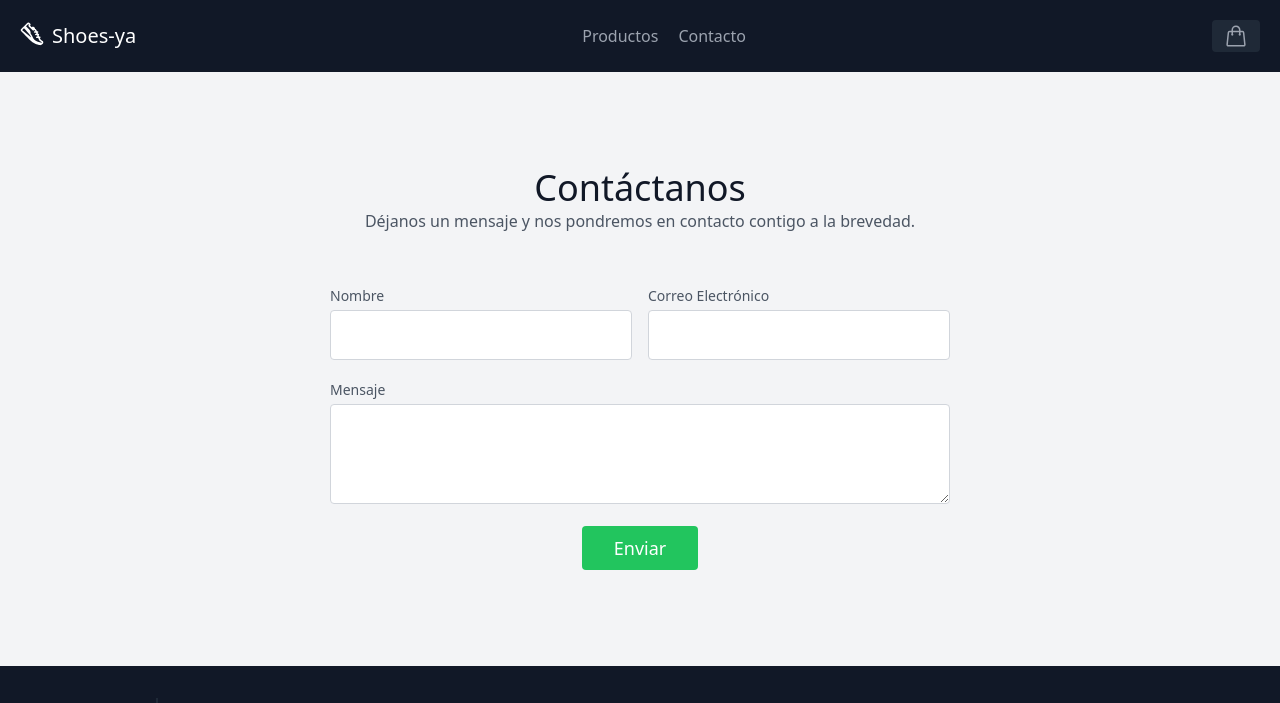
Scenario: Formulario de Contacto - Shoes-Ya › Debería validar el formato del correo electrónico
This screenshot has width=1280, height=703.
// Completar los campos con un correo inválido
Step 1. Type "Juan Pérez" into the field with id "name" → [481, 335], box [330,310,632,360]
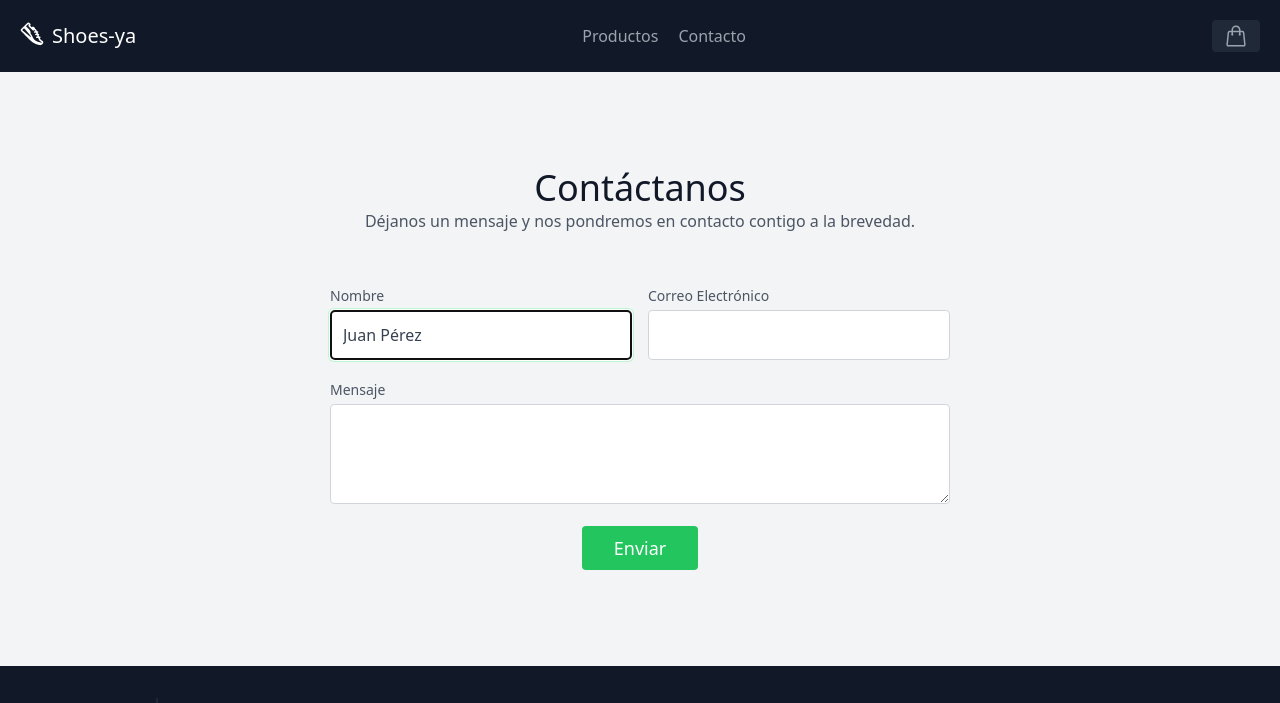
Step 2. Type "correo-invalido" into the field with id "mail" → [799, 335], box [648,310,950,360]
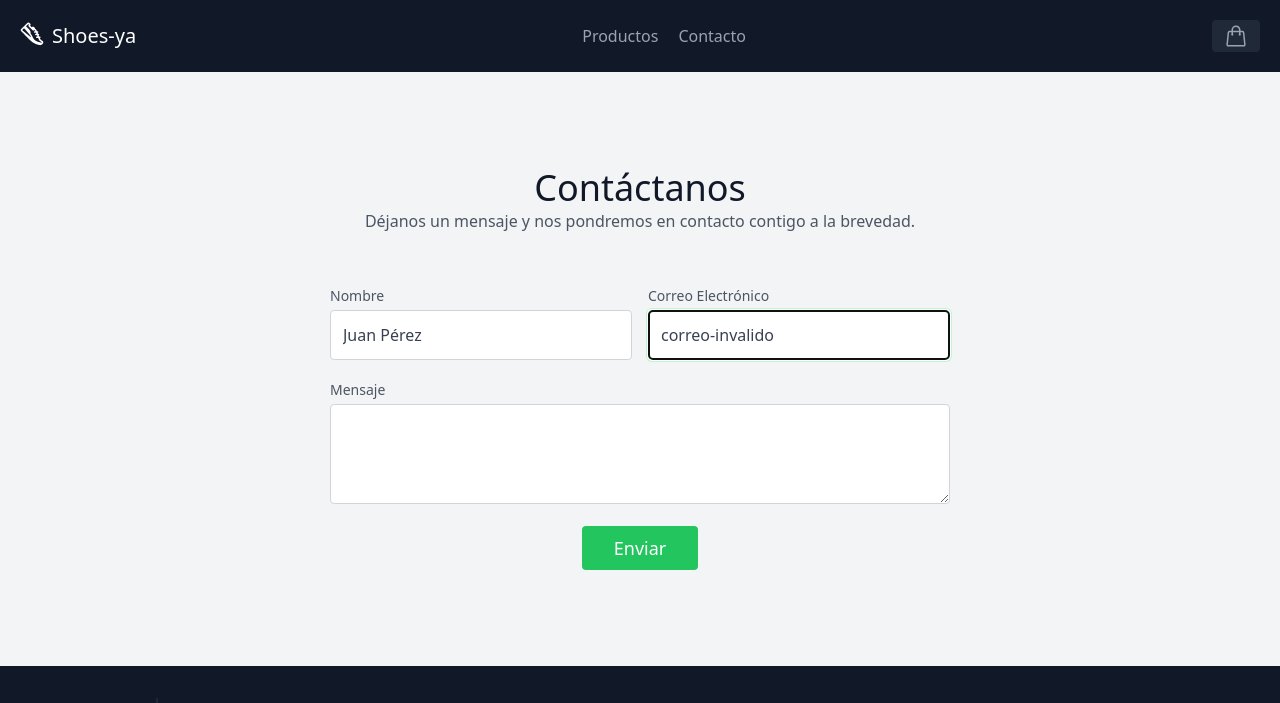
Step 3. Type "Este es un mensaje de prueba." into the text box with id "message" → [640, 454], box [330,404,950,504]
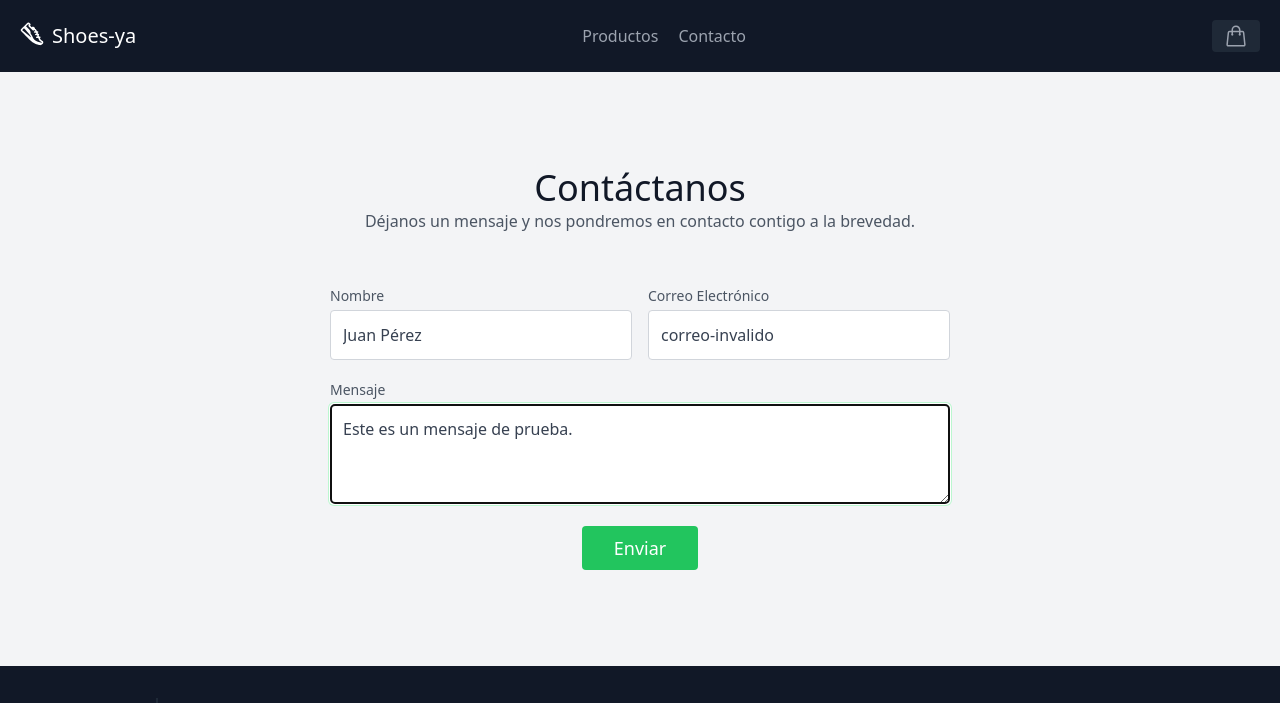
// Intentar enviar el formulario
Step 4. Click the submit button → [641, 548], box [582,526,699,570]
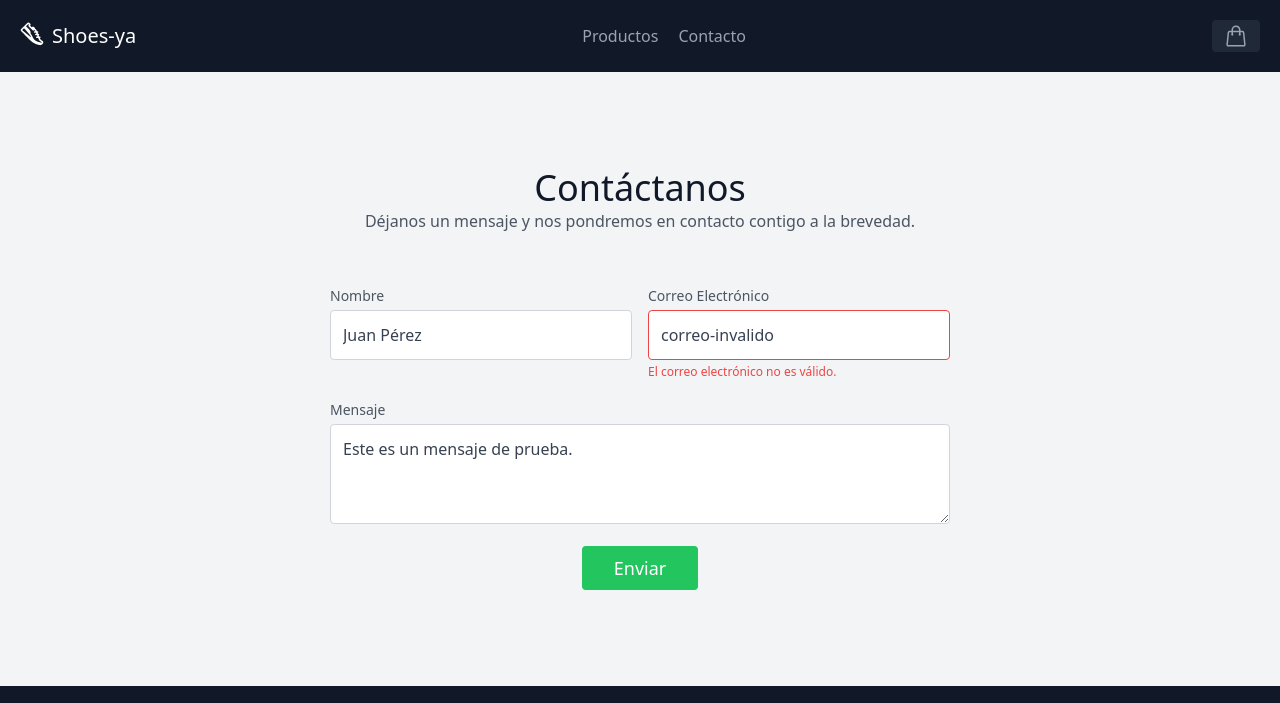
Result: the text "El correo electrónico no es válido." is shown at [648,363,836,380]
